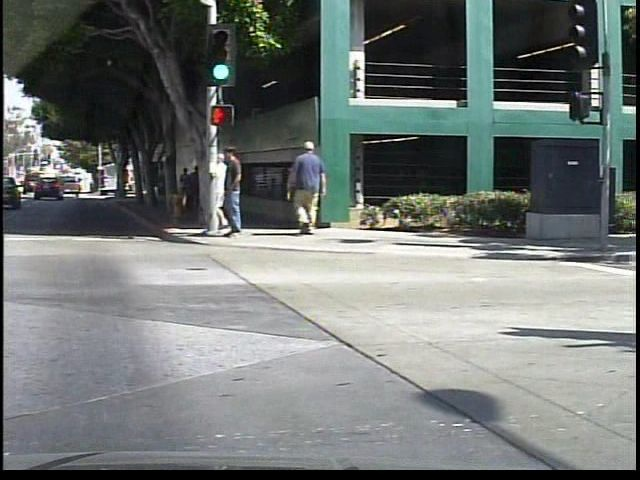person: (285, 141, 339, 239), (218, 138, 256, 244), (209, 149, 238, 236), (189, 164, 205, 221)
